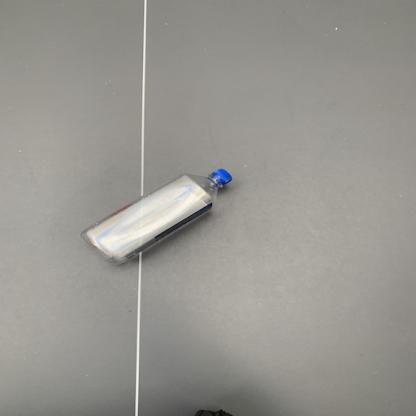trash: (76, 167, 233, 270)
